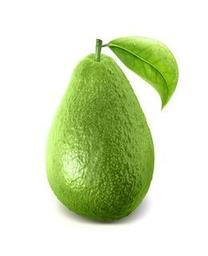avocado: (45, 53, 155, 223)
